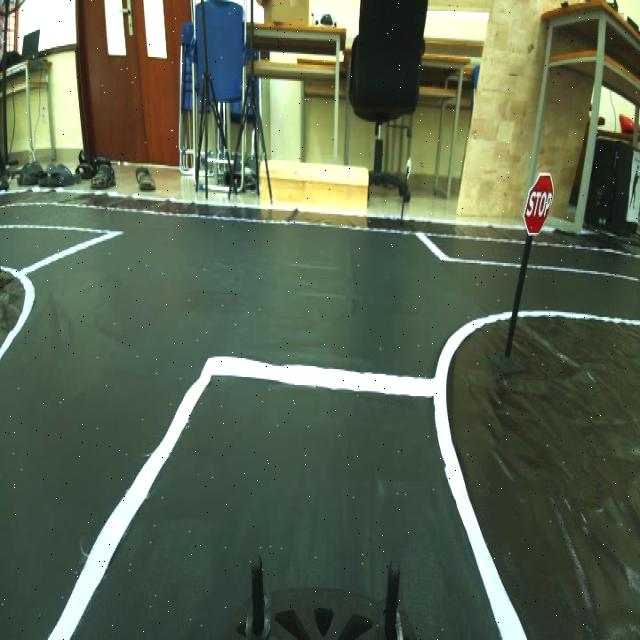stop: (518, 163, 558, 246)
